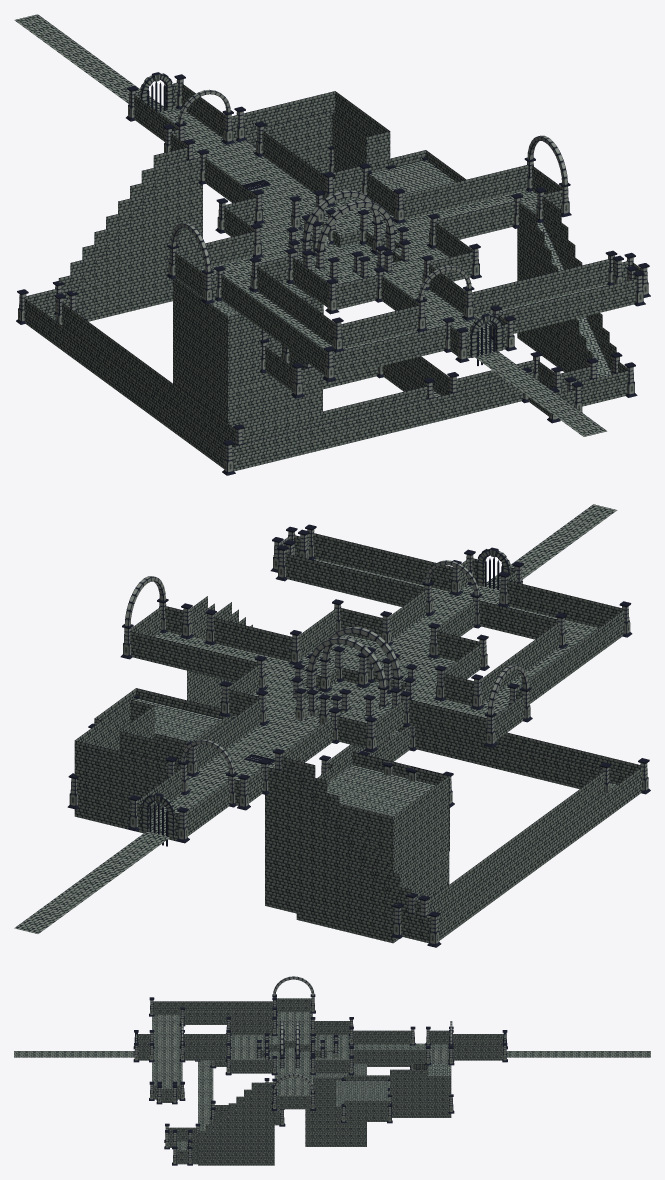
File: Level3.fbx
The picture shows the model from 3 angles, top to bottom: view 1: azimuth 30°, elevation 25°; view 2: azimuth 150°, elevation 25°; view 3: azimuth 270°, elevation 25°; orthographic projection. The views are drawn at different scales.
Visible parts, largest first — view 1: level3; view 2: level3; view 3: level3.
Part boxes in pixels (<box>): level3: <box>14,14,650,475</box>; level3: <box>14,504,650,947</box>; level3: <box>14,976,650,1165</box>.
Bounding box in the file's own units: 174 × 94.37 × 415.
